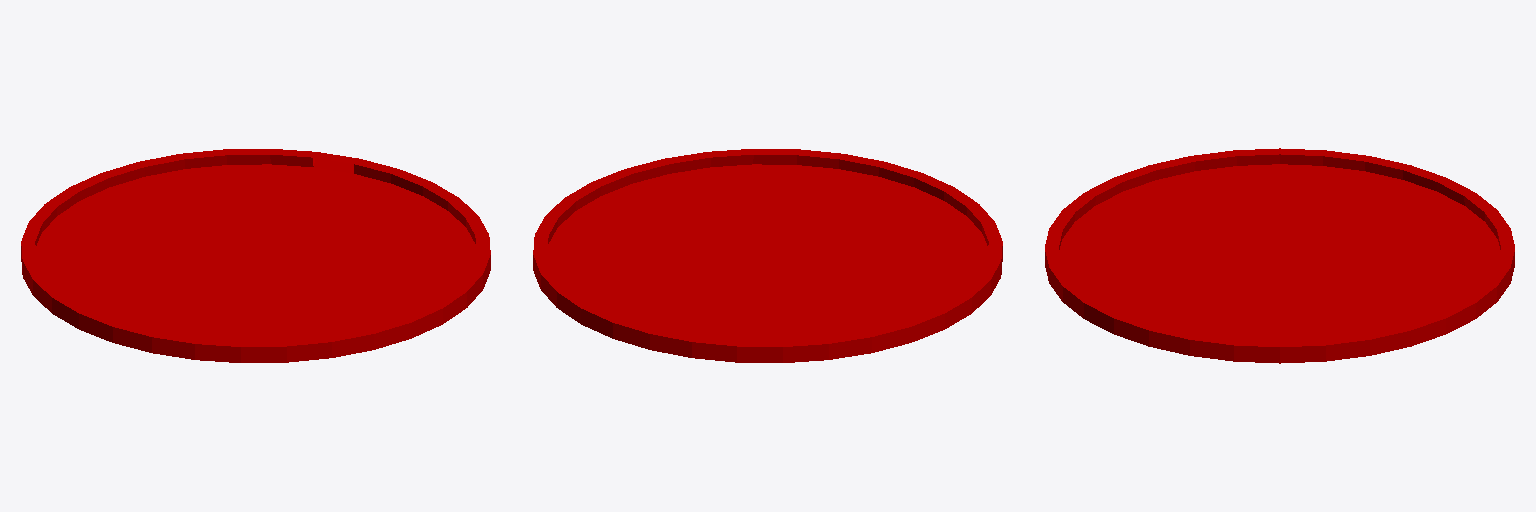
The model's file is puck.obj.
3 views of the same model, side by side, from view 1: azimuth 30°, elevation 25°; view 2: azimuth 150°, elevation 25°; view 3: azimuth 270°, elevation 25° (orthographic).
Parts seen in each view (by area): view 1: Circle; view 2: Circle; view 3: Circle.
Part boxes in pixels (x1,y1,x2,y2): Circle: (21, 149, 490, 362); Circle: (533, 149, 1002, 362); Circle: (1045, 148, 1514, 363).
Bounding box in the file's own units: 0.0751 × 0.0028 × 0.0751.